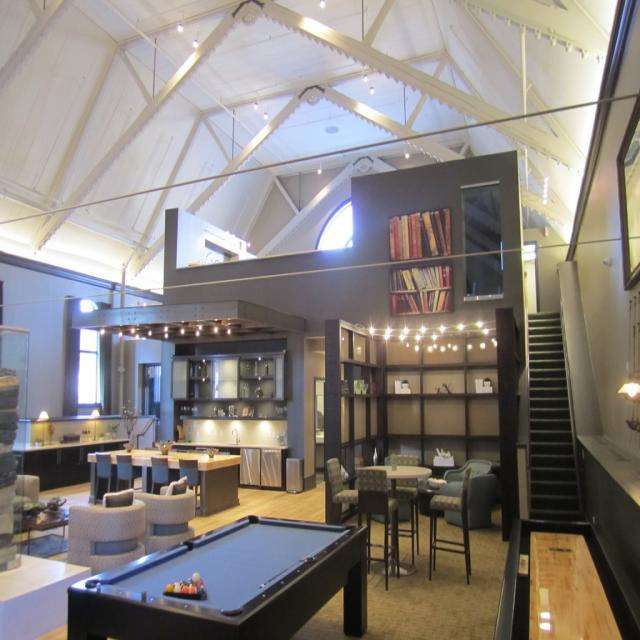Ball: (164, 572, 207, 596)
Billiard table: (67, 513, 367, 639)
